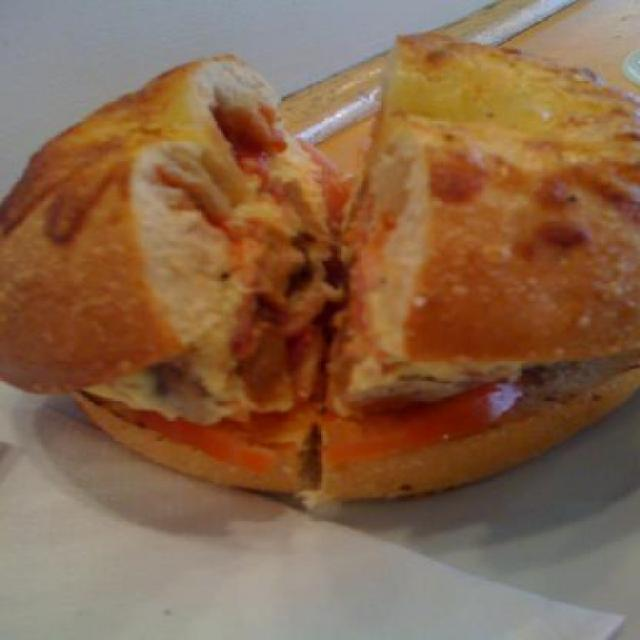Bread: (1, 10, 638, 512)
